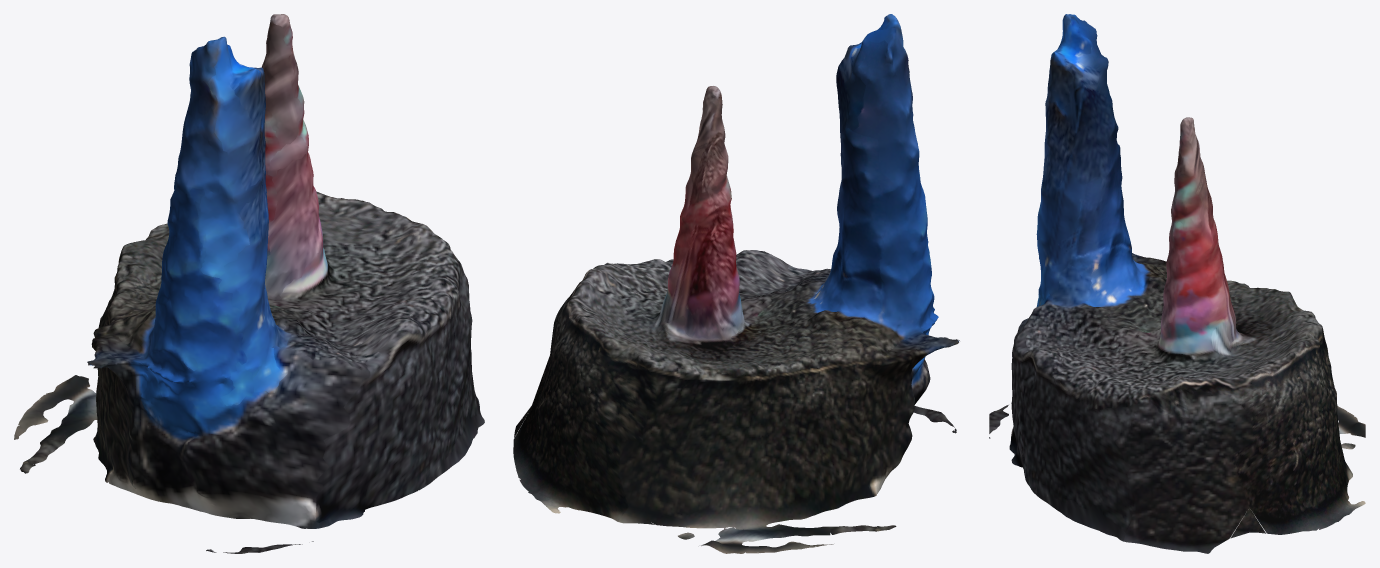
Rendered from Ella_Giannetta.glb.
The picture shows the model from 3 angles, left to right: view 1: azimuth 30°, elevation 25°; view 2: azimuth 150°, elevation 25°; view 3: azimuth 270°, elevation 25°; orthographic projection. The views are drawn at different scales.
Parts seen in each view (by area): view 1: geom; view 2: geom; view 3: geom.
Boxes of the visible parts, x1,y1,x2,y2 form: geom: [14, 14, 484, 553]; geom: [513, 14, 959, 553]; geom: [989, 14, 1365, 553].
Size of the model in its own units: 2.33 by 2.48 by 2.09.
1 material, 1 textured.
